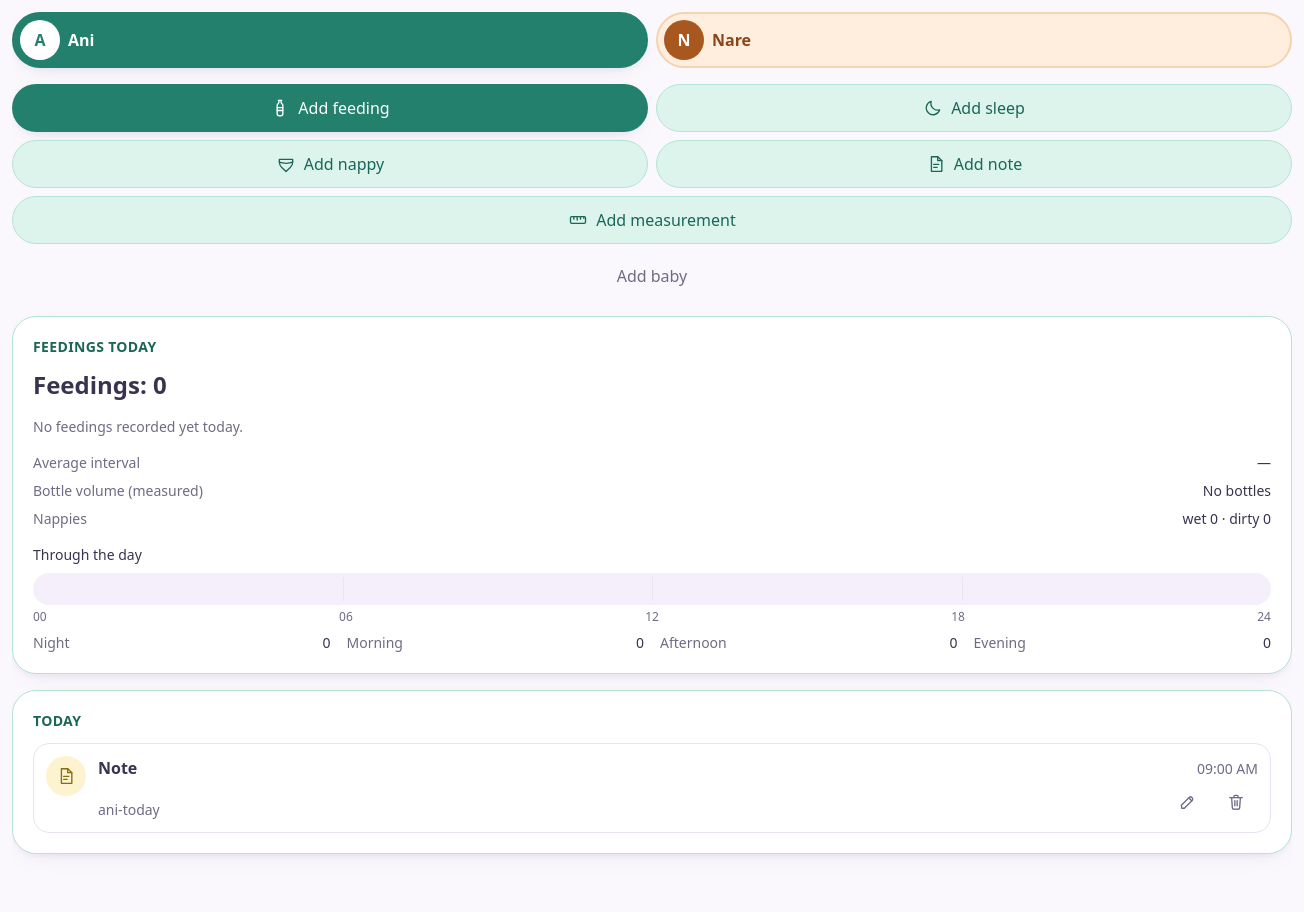
Test: today’s day scope › re-scopes to the other twin’s current day when the tab is switched
Expected: the text "ani-today" is shown, [98,800,160,820]
Click the tab "N Nare": (684, 40) [656,12,1292,68]
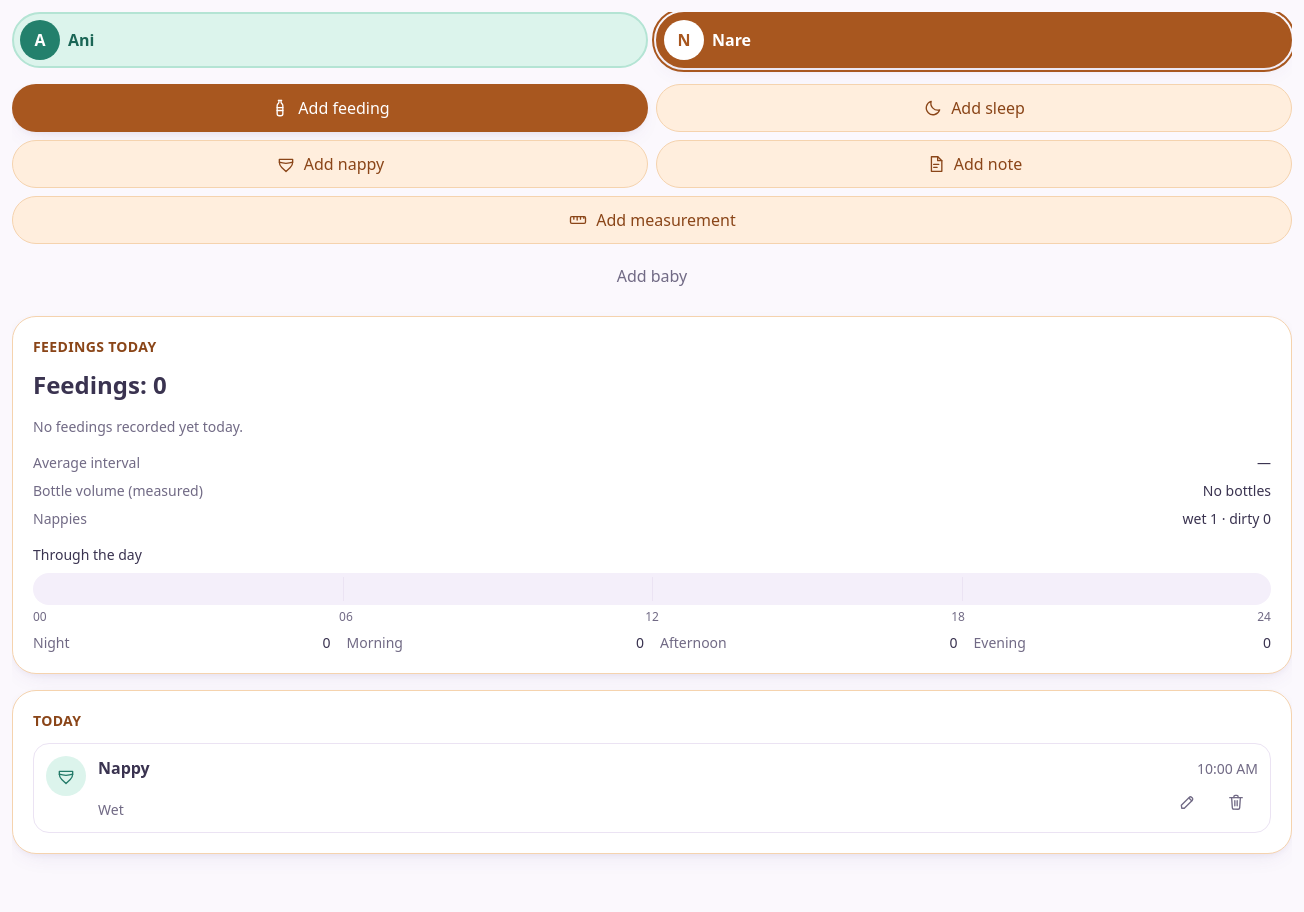
Now the text "Wet" is shown, box [98,800,124,820]
Now the text "ani-today" is gone
